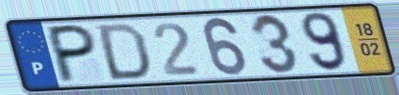2: (152, 20, 200, 77)
3: (248, 12, 301, 76)
6: (201, 15, 249, 78)
9: (299, 11, 350, 74)
D: (96, 21, 153, 82)
P: (47, 22, 98, 86)
